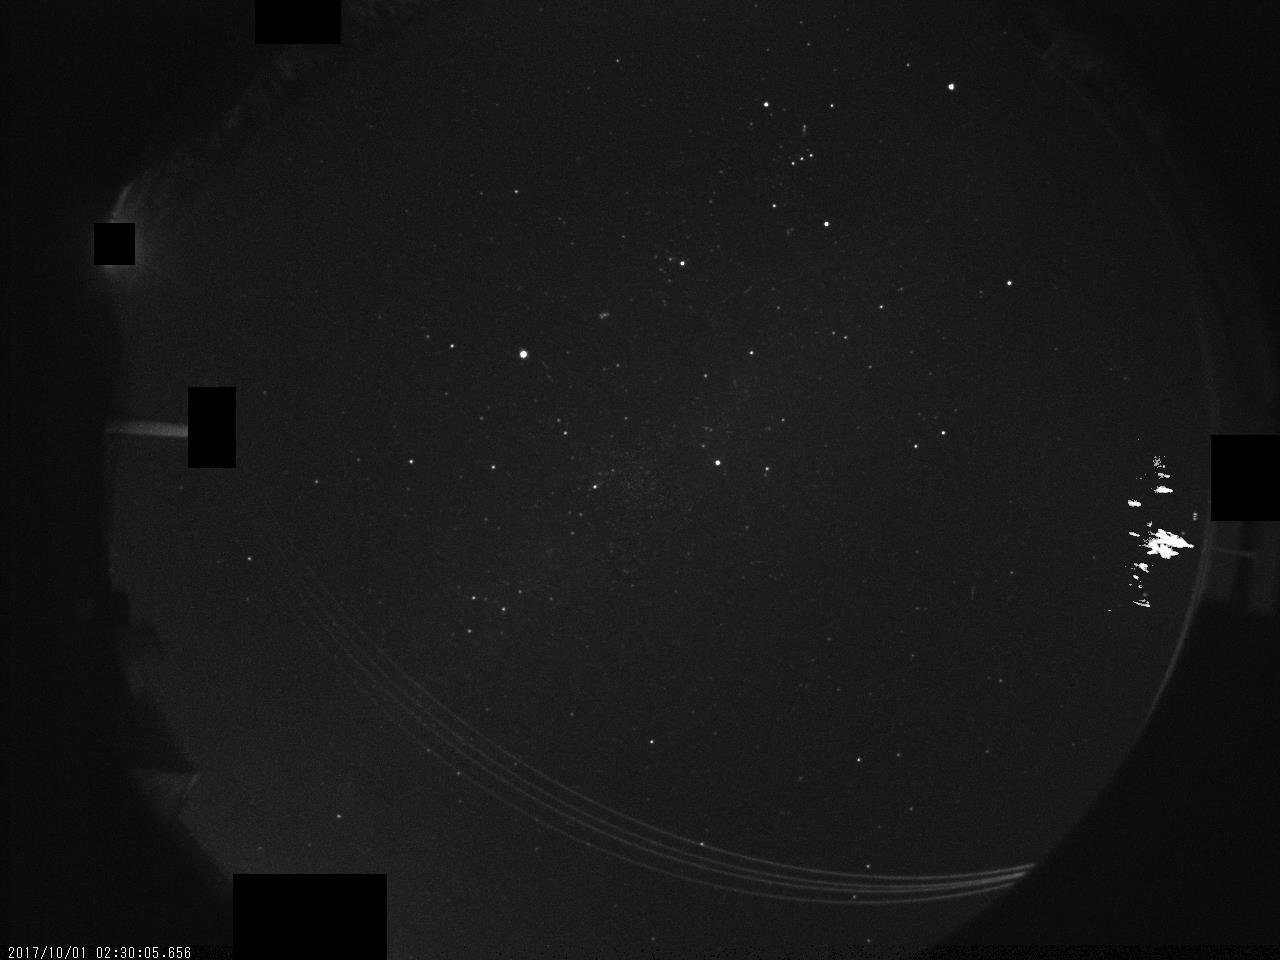TLE: (1108, 425, 1214, 633)
